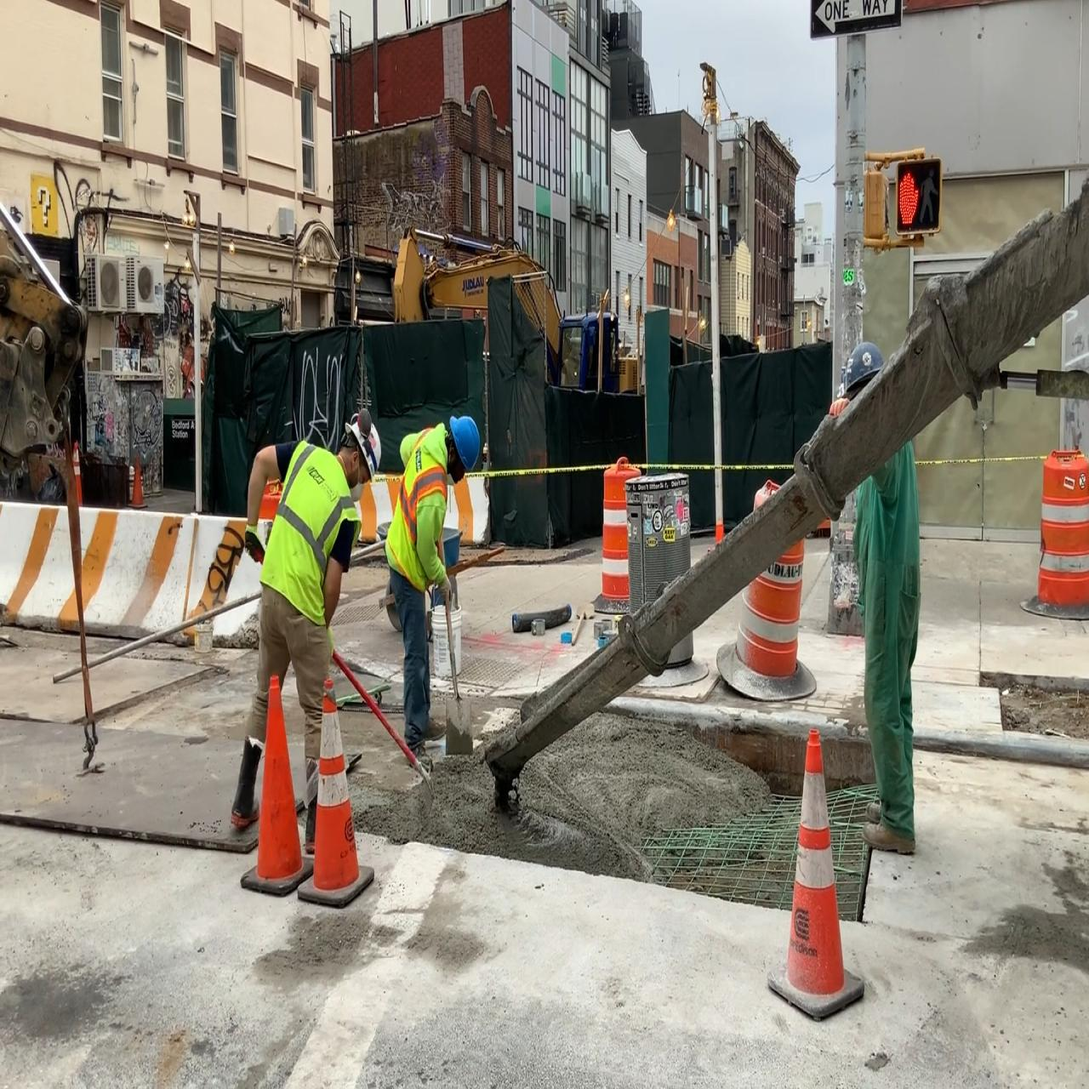NO_Safety_Vest: (850, 441, 919, 611)
Person: (235, 396, 385, 835), (829, 323, 934, 869), (383, 406, 487, 764)
Safety_Vest: (257, 434, 360, 636), (394, 436, 444, 593)
